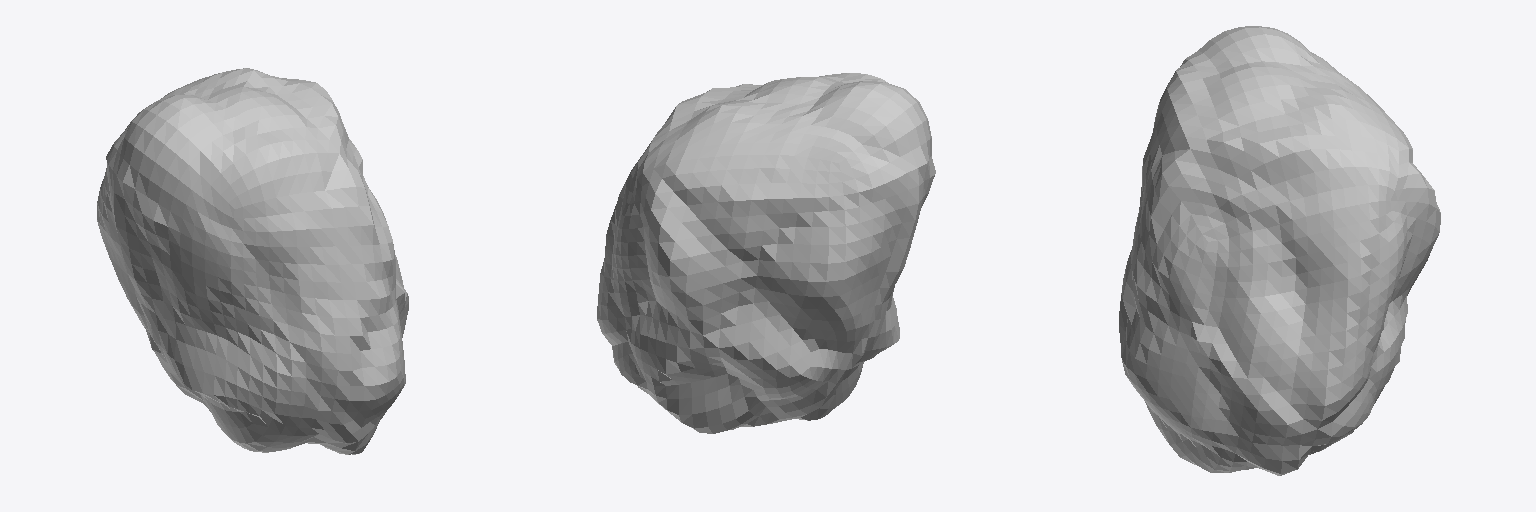
File: rock.obj
The picture shows the model from 3 angles: view 1: azimuth 30°, elevation 25°; view 2: azimuth 150°, elevation 25°; view 3: azimuth 270°, elevation 25°; orthographic projection.
Visible parts, largest first — view 1: Cube; view 2: Cube; view 3: Cube.
Boxes of the visible parts, <box> form: Cube: <box>97,68,408,454</box>; Cube: <box>597,73,935,433</box>; Cube: <box>1119,26,1440,475</box>.
Size of the model in its own units: 2.38 by 2.84 by 2.27.